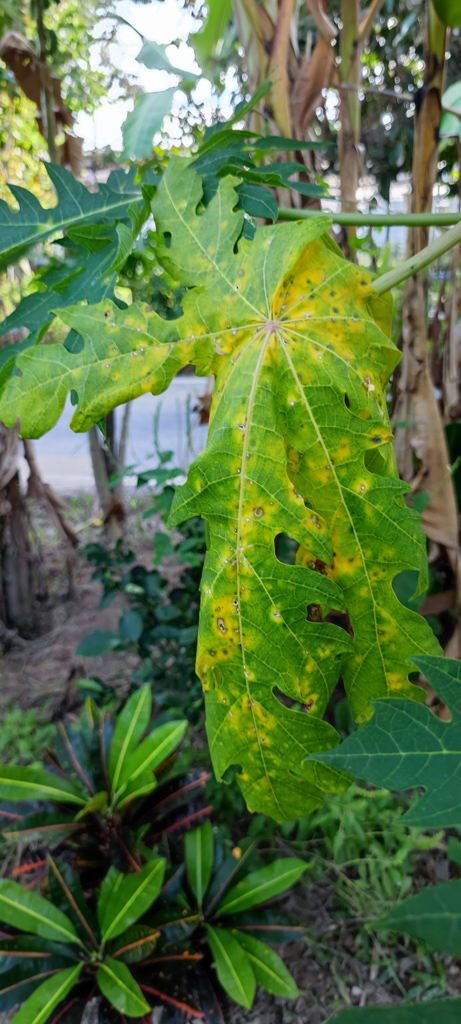Alternaria brassicicola: (14, 206, 445, 821), (198, 366, 313, 795), (298, 366, 421, 694), (208, 260, 379, 363), (41, 304, 221, 386)
